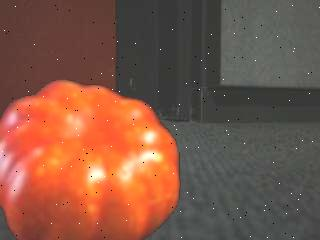Pumpkin: (2, 79, 183, 240)
